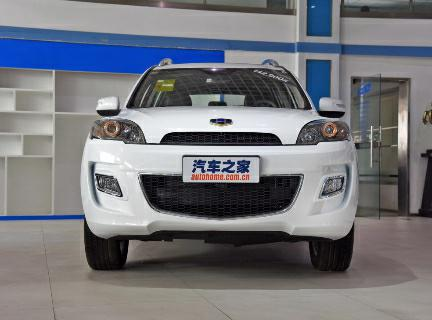吉利汽车-豪情SUV: (73, 56, 367, 274)
